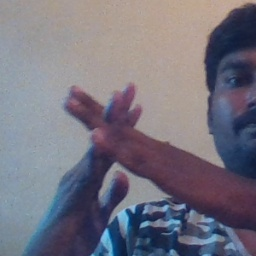W: (42, 68, 183, 227)
